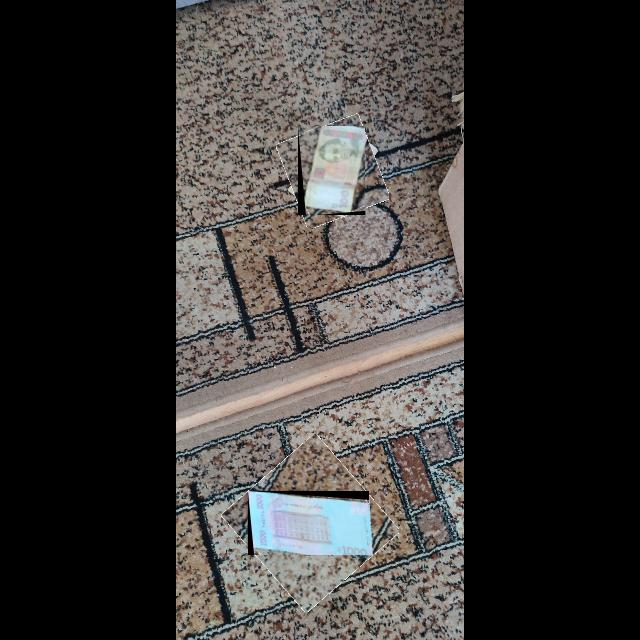1000uah: (248, 491, 370, 556)
100uah: (304, 126, 366, 213)
